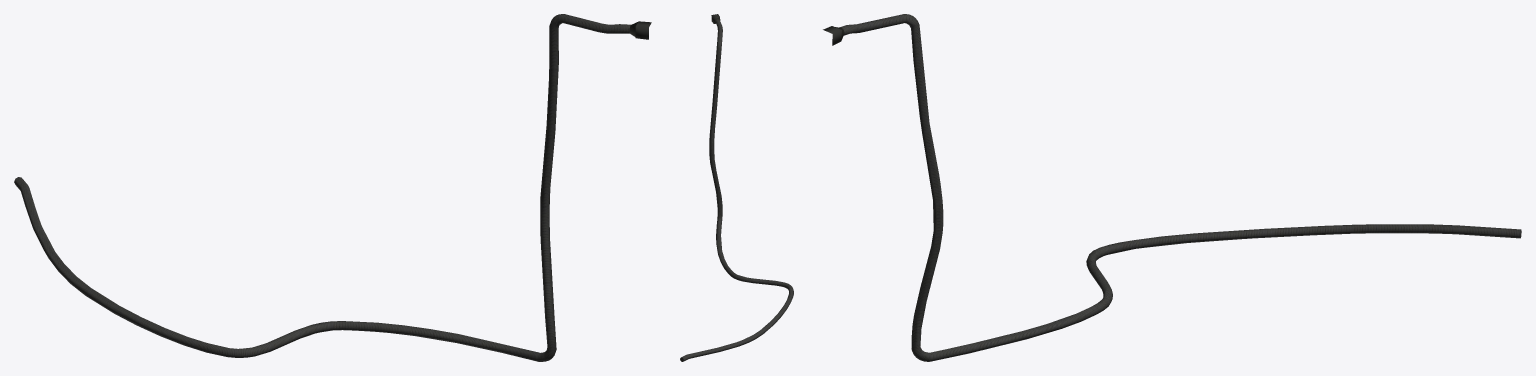
File: warhead_cable_single.glb
3 renders of one model, left to right at view 1: azimuth 30°, elevation 25°; view 2: azimuth 150°, elevation 25°; view 3: azimuth 270°, elevation 25°, orthographic. The views are drawn at different scales.
Parts seen in each view (by area): view 1: nuclear_warhead_cables_nms_twitch_rivals_LOD0; view 2: nuclear_warhead_cables_nms_twitch_rivals_LOD0; view 3: nuclear_warhead_cables_nms_twitch_rivals_LOD0.
Part boxes in pixels (x1,y1,x2,y2): nuclear_warhead_cables_nms_twitch_rivals_LOD0: (14, 14, 651, 361); nuclear_warhead_cables_nms_twitch_rivals_LOD0: (680, 14, 793, 361); nuclear_warhead_cables_nms_twitch_rivals_LOD0: (823, 14, 1521, 361).
Size of the model in its own units: 1 by 1.04 by 1.82.
Materials: 1 (1 with a texture image).
